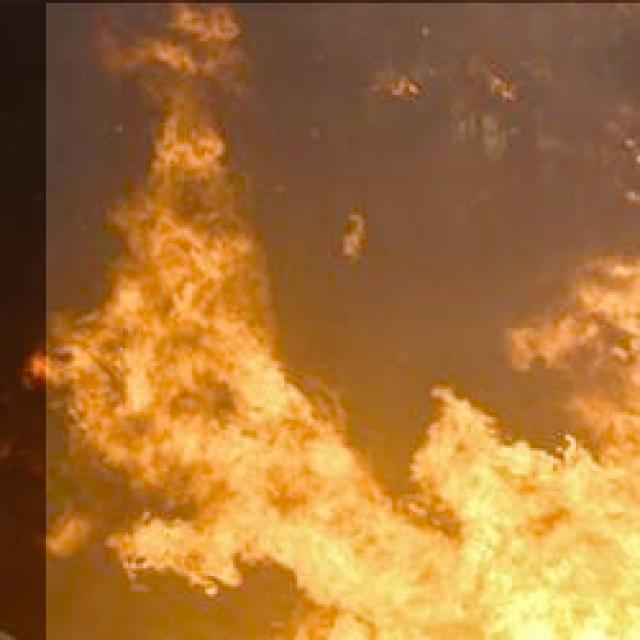Fire: (46, 3, 640, 640)
